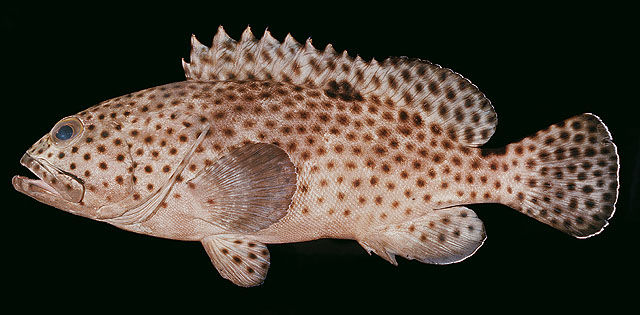fish: (12, 23, 621, 288)
